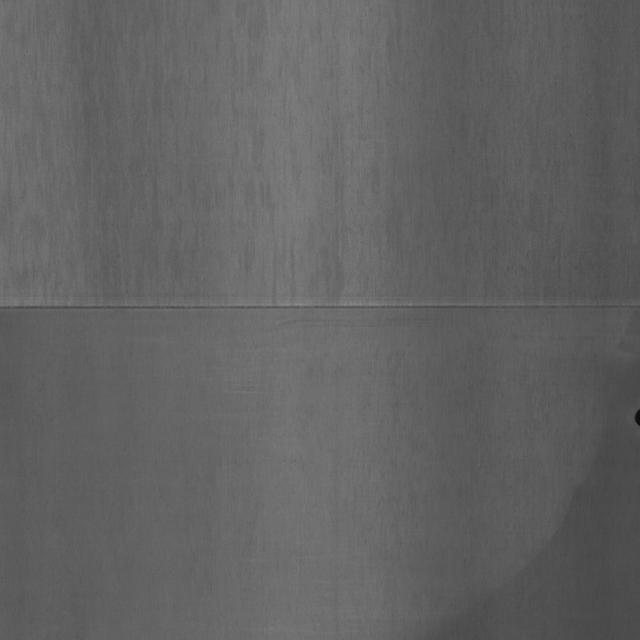crease: (0, 286, 640, 332)
crescent_gap: (632, 404, 640, 427)
